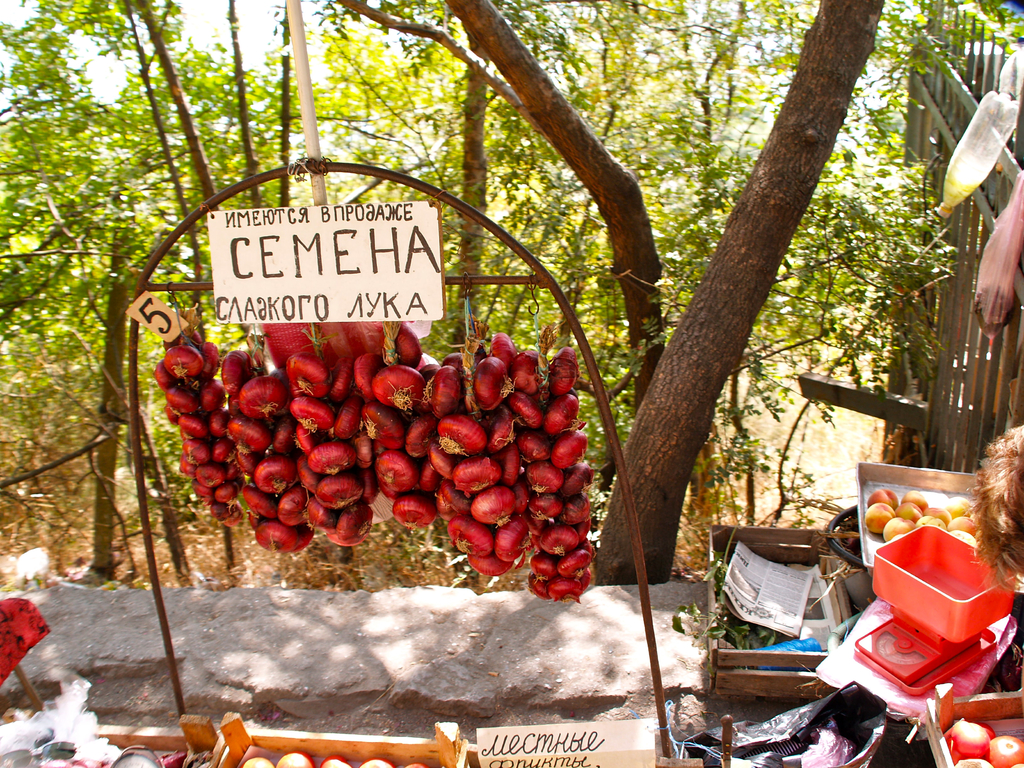Tree: (0, 0, 591, 590), (588, 0, 888, 592)
